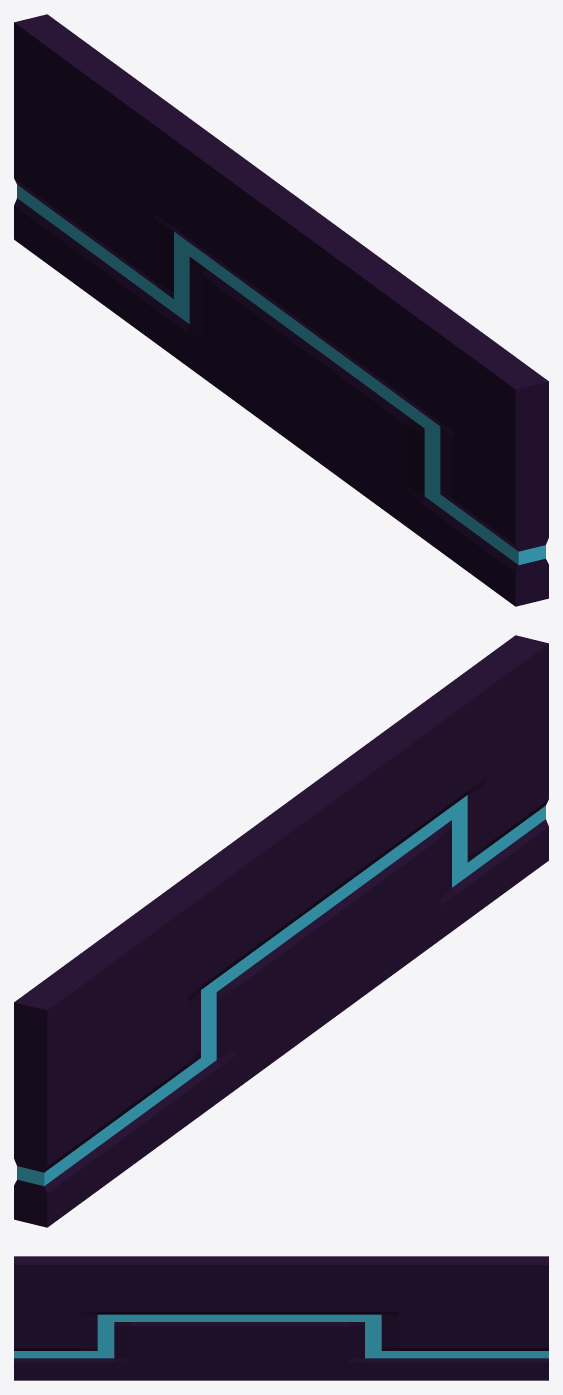
The model's file is mur_export.fbx.
3 renders of one model, top to bottom at view 1: azimuth 30°, elevation 25°; view 2: azimuth 150°, elevation 25°; view 3: azimuth 270°, elevation 25°, orthographic. The views are drawn at different scales.
Visible parts, largest first — view 1: pCube2; view 2: pCube2; view 3: pCube2.
Boxes of the visible parts, x1,y1,x2,y2 form: pCube2: [14, 14, 548, 606]; pCube2: [14, 635, 548, 1227]; pCube2: [14, 1256, 548, 1380].
Size of the model in its own units: 1 by 6.22 by 26.03.
